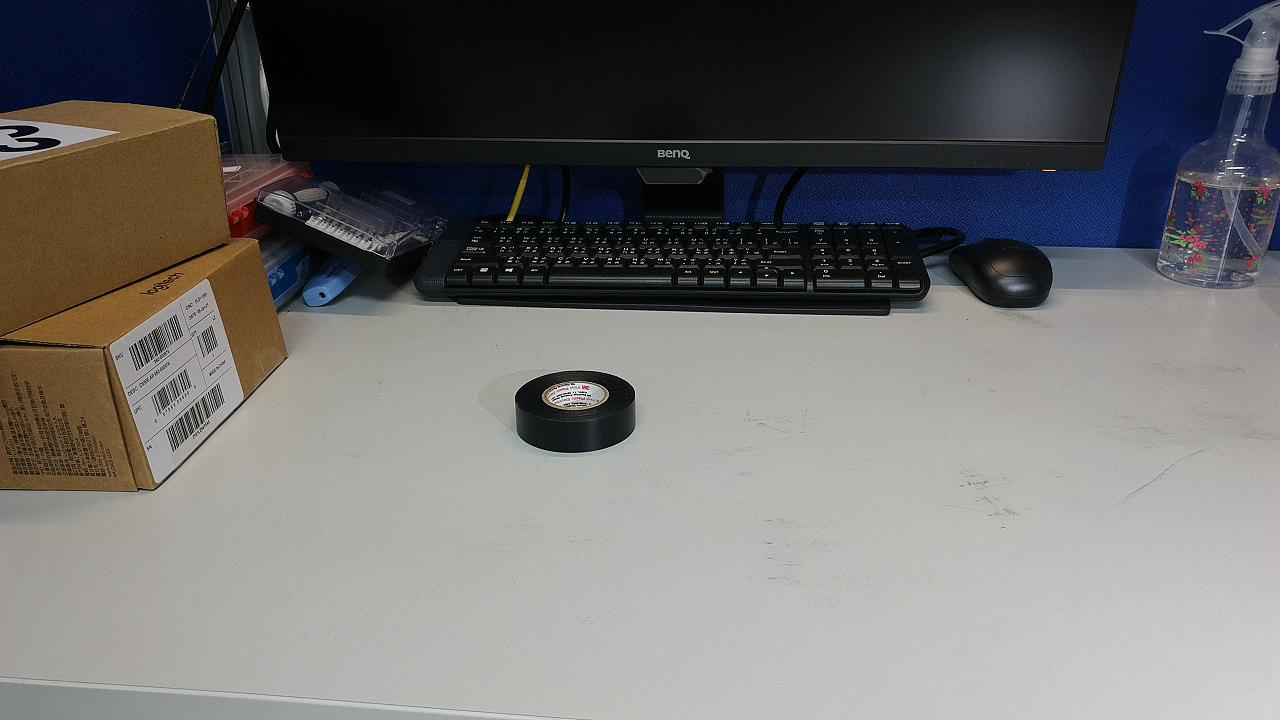long: (581, 277, 721, 324)
